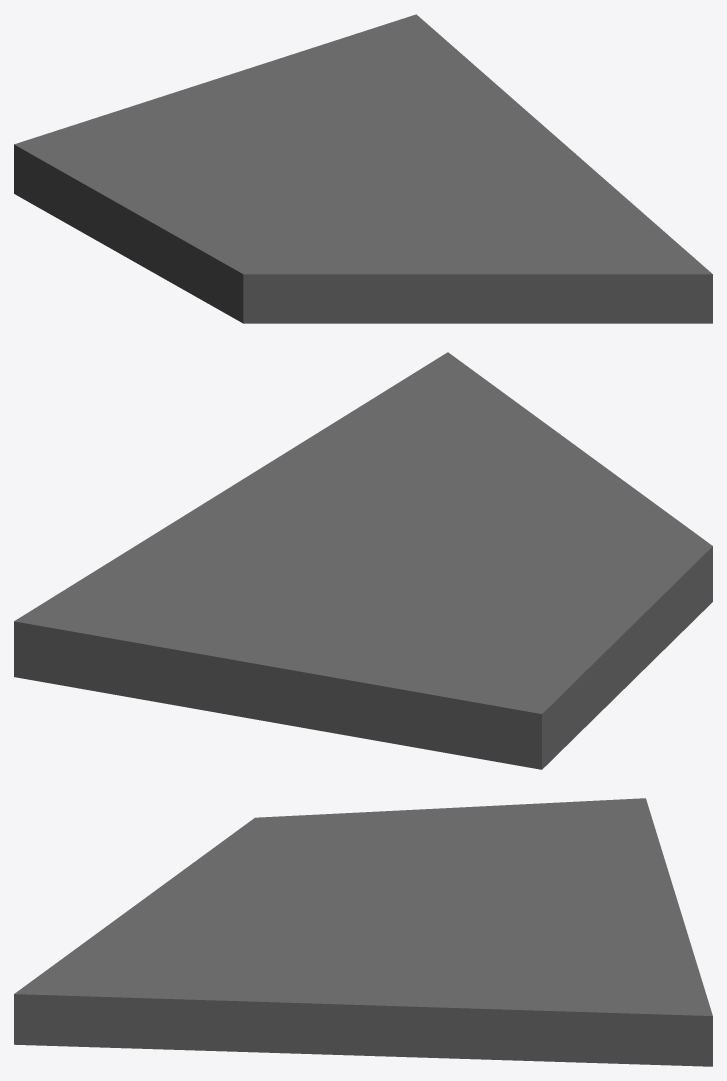
3 renders of one model, top to bottom at view 1: azimuth 30°, elevation 25°; view 2: azimuth 150°, elevation 25°; view 3: azimuth 270°, elevation 25°, orthographic. The views are drawn at different scales.
Visible parts, largest first — view 1: block_01; view 2: block_01; view 3: block_01.
Boxes of the visible parts, x1,y1,x2,y2 form: block_01: (14,14,712,323); block_01: (14,352,712,769); block_01: (14,798,712,1066).
Bounding box in the file's own units: 2.7 × 0.2927 × 3.66.
1 material, 1 textured.
